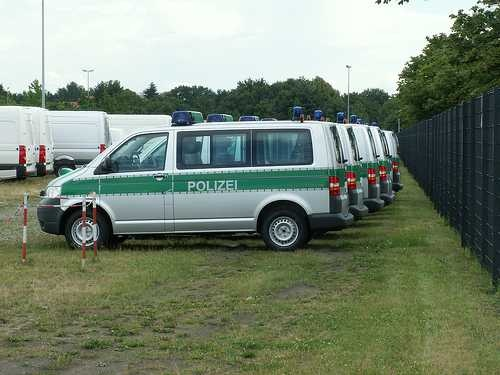Police Car: (41, 113, 351, 252), (286, 104, 371, 230), (367, 129, 400, 219), (386, 123, 411, 198)
